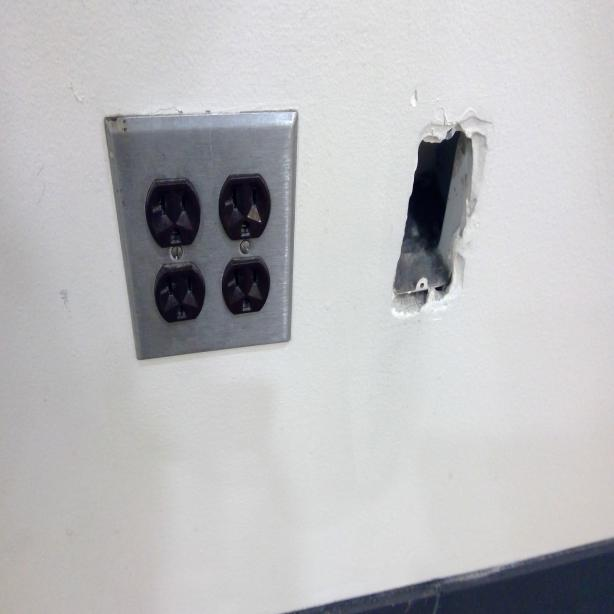typeb: (214, 172, 268, 239), (144, 179, 198, 243), (150, 268, 204, 324), (224, 262, 270, 312)
